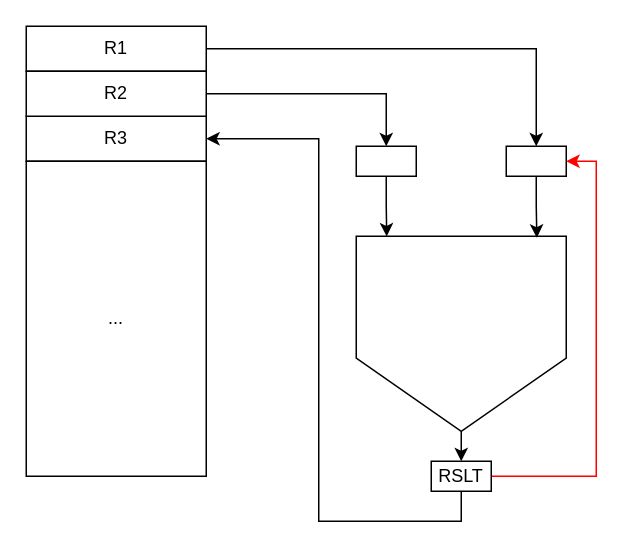
This 635x560 diagram has some shape labels left out. The shapes that lost their labels are listed below. From the top down, each one's box as (x1, y1, x2, y2) in pixels, then its label:
(355, 145, 416, 176): SRC1
(505, 145, 566, 176): SRC2
(355, 235, 566, 431): ALU
